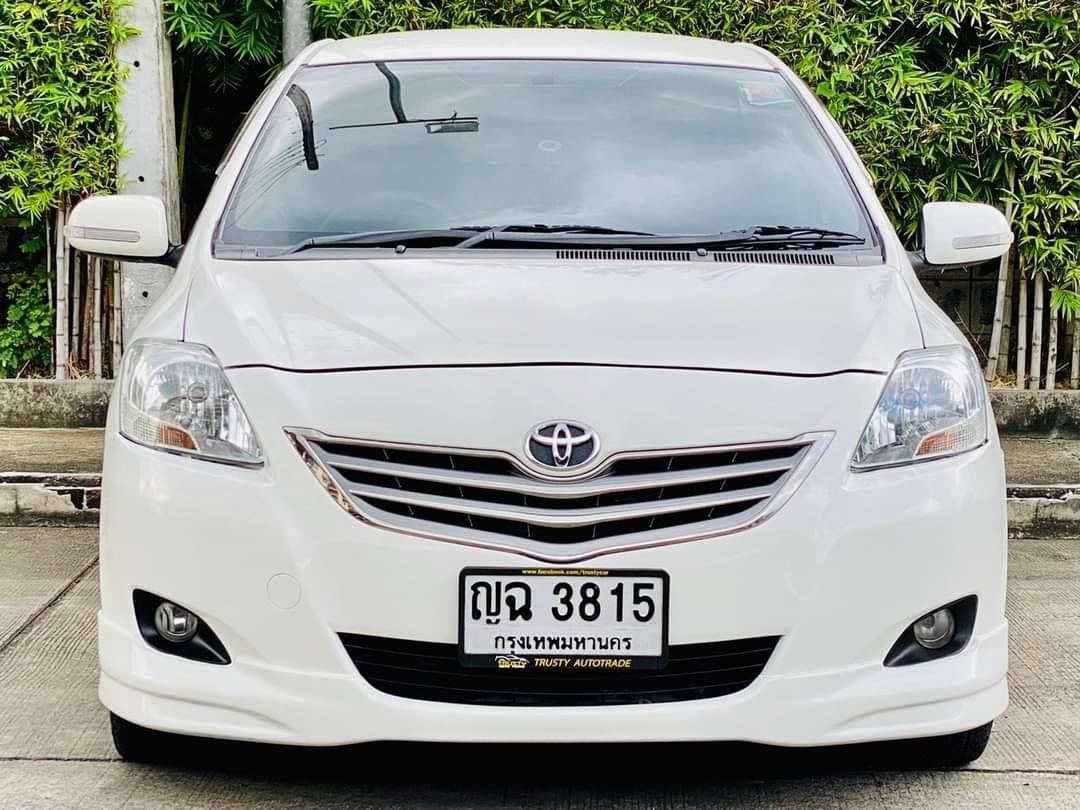license-plate: (456, 560, 671, 673)
